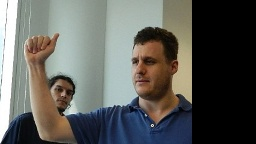Pugno: (21, 31, 61, 62)
